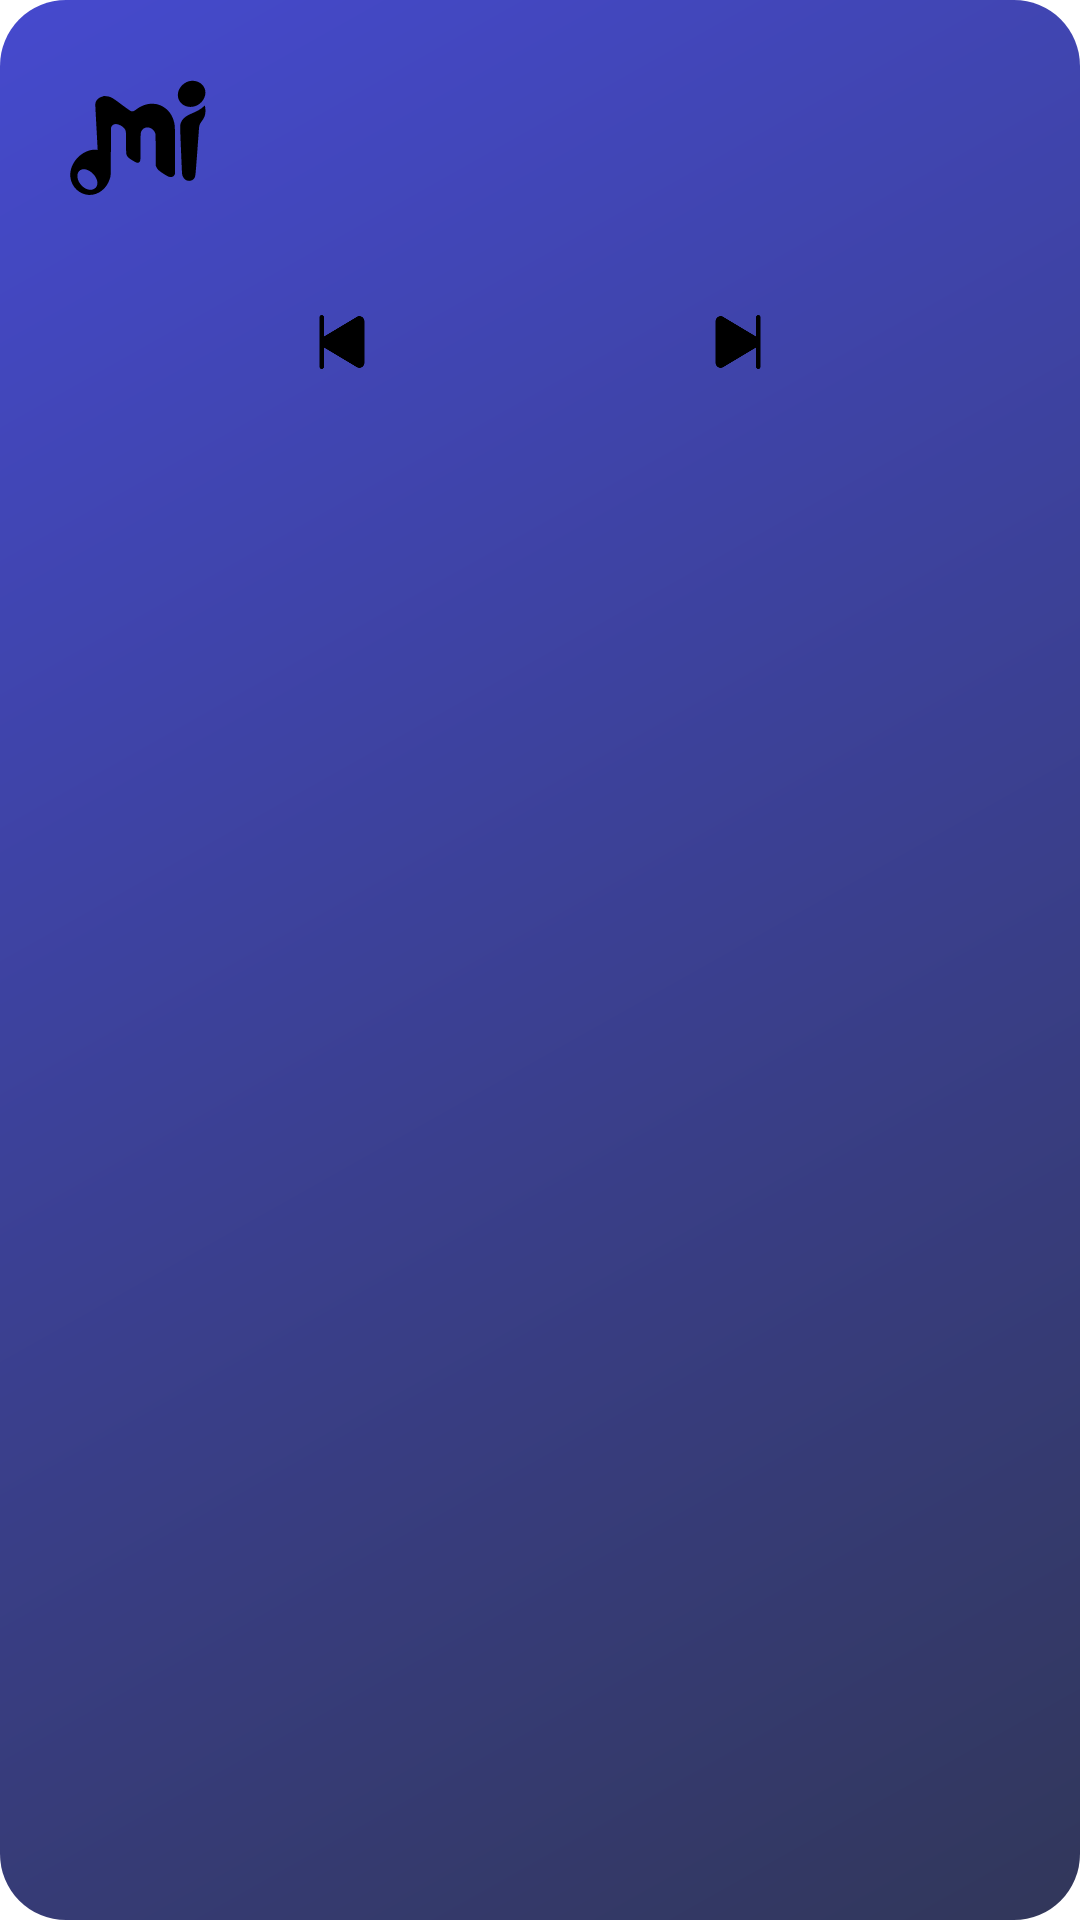

Icons on this 1080x1920 Android screen, each with its box as (x1, y1, x2, y2):
app: (70, 80, 206, 195)
play skip back: (319, 315, 365, 369)
play skip forward: (715, 315, 761, 369)
